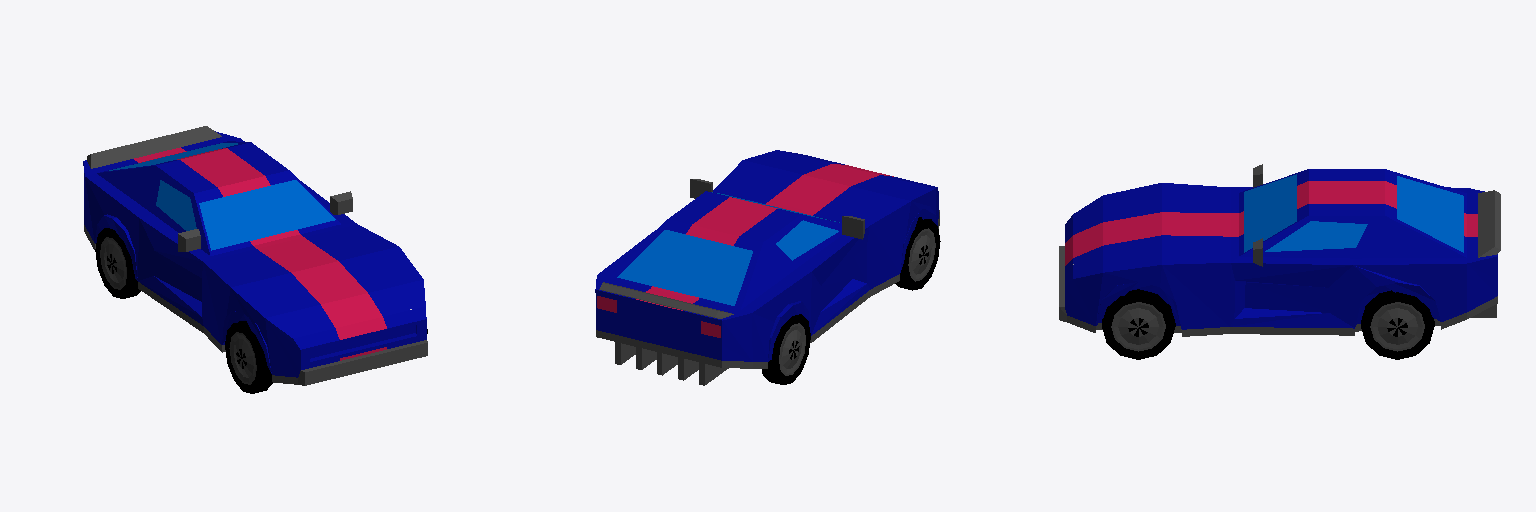
File: Vehicle_02.obj
The picture shows the model from 3 angles: view 1: azimuth 30°, elevation 25°; view 2: azimuth 150°, elevation 25°; view 3: azimuth 270°, elevation 25°; orthographic projection.
Visible parts, largest first — view 1: Veh_02_SR_Veh_MuscleSports_Black; view 2: Veh_02_SR_Veh_MuscleSports_Black; view 3: Veh_02_SR_Veh_MuscleSports_Black.
Part boxes in pixels (bbox=[...]): Veh_02_SR_Veh_MuscleSports_Black: bbox=[83, 126, 427, 393]; Veh_02_SR_Veh_MuscleSports_Black: bbox=[595, 150, 940, 385]; Veh_02_SR_Veh_MuscleSports_Black: bbox=[1059, 164, 1500, 359].
Bounding box in the file's own units: 0.2634 × 0.1852 × 0.583.